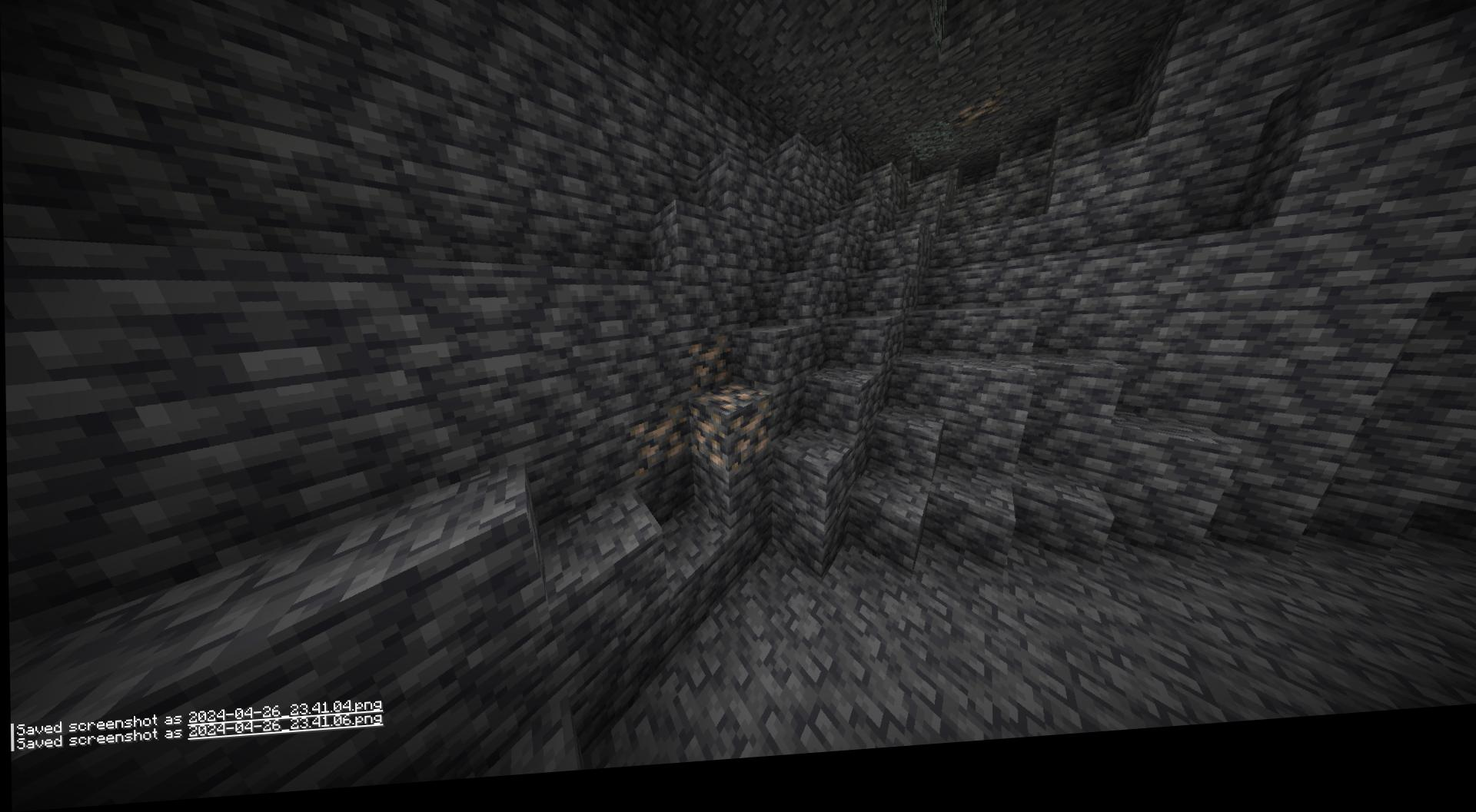iron ore: (626, 410, 686, 479), (725, 411, 776, 476), (688, 339, 734, 399), (683, 412, 723, 476), (956, 112, 1002, 144)
